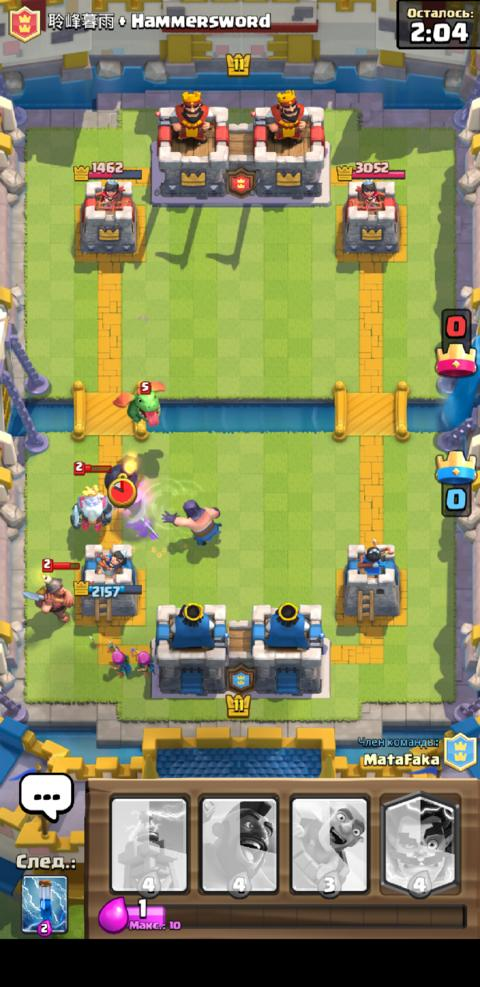EArcher: (106, 639, 131, 680), (129, 647, 156, 677)
EBush: (159, 498, 222, 546)
EMonk: (111, 378, 166, 426)
ESnowBall: (103, 454, 140, 507)
OEVArcher: (68, 459, 112, 530)
